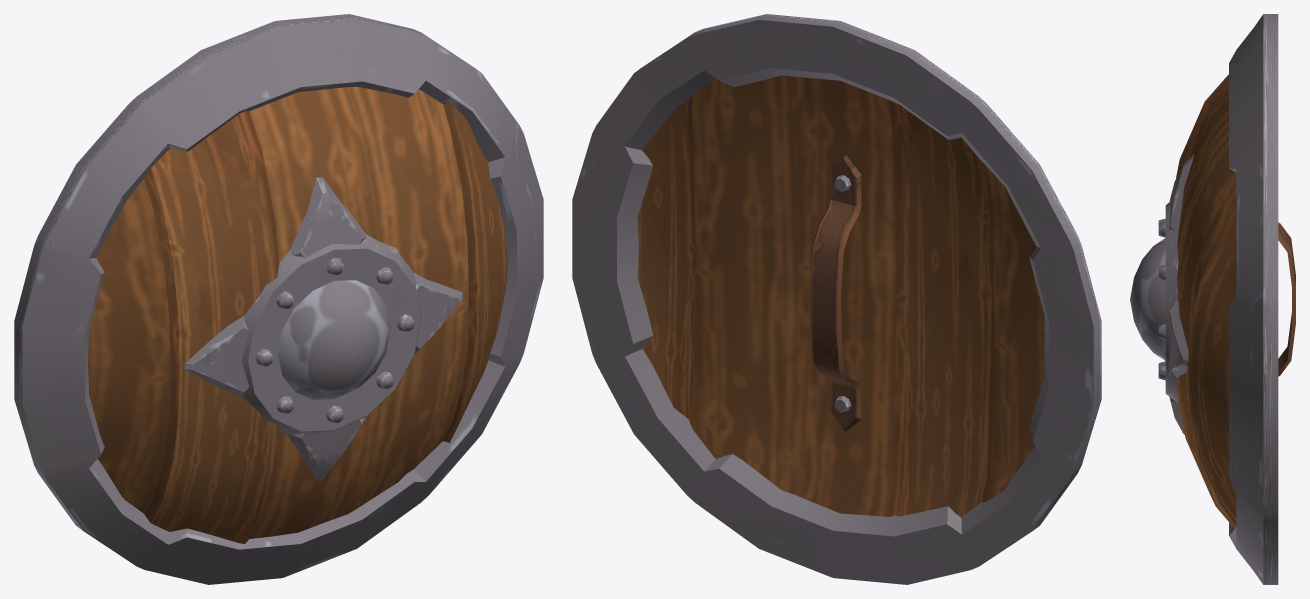
Rendered from Shield_Wooden.gltf.
3 renders of one model, left to right at view 1: azimuth 30°, elevation 25°; view 2: azimuth 150°, elevation 25°; view 3: azimuth 270°, elevation 25°, orthographic. The views are drawn at different scales.
Parts seen in each view (by area): view 1: Shield_Wooden; view 2: Shield_Wooden; view 3: Shield_Wooden.
Boxes of the visible parts, <box> form: Shield_Wooden: <box>14,14,543,584</box>; Shield_Wooden: <box>572,14,1101,584</box>; Shield_Wooden: <box>1130,14,1295,584</box>.
Size of the model in its own units: 0.6146 by 0.6209 by 0.1788.
Materials: 3 (3 with a texture image).
